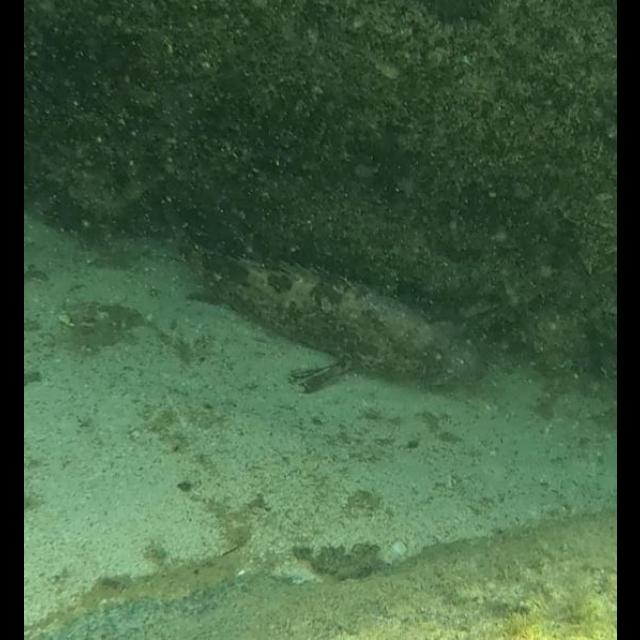Groupers: (164, 240, 493, 394)
